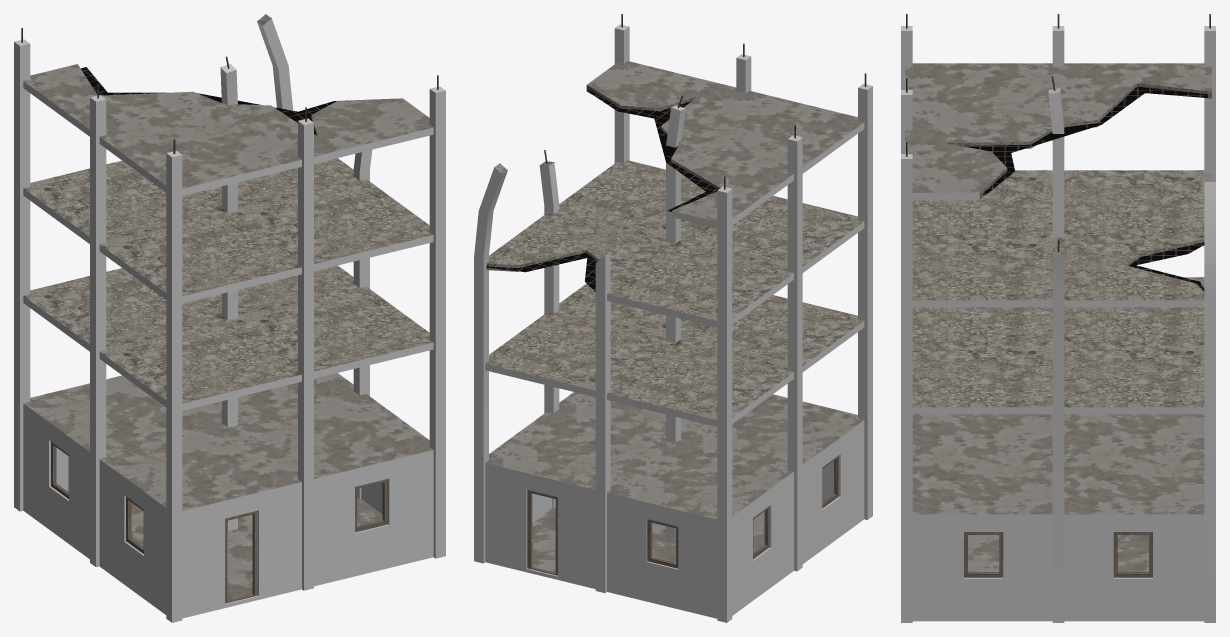
The model's file is Construction_A_Destroyed.fbx.
The picture shows the model from 3 angles, left to right: view 1: azimuth 30°, elevation 25°; view 2: azimuth 150°, elevation 25°; view 3: azimuth 270°, elevation 25°; orthographic projection. The views are drawn at different scales.
Parts seen in each view (by area): view 1: Floors_Center, Pillars, Floors_Top, Walls, Floor_Ground, Windows, Rebar_Floors; view 2: Floors_Center, Pillars, Floors_Top, Walls, Floor_Ground, Rebar_Floors, Windows, Broken_Concrete; view 3: Floors_Center, Floors_Top, Walls, Pillars, Rebar_Floors, Floor_Ground, Broken_Concrete, Windows.
Part boxes in pixels (x1=…): Floors_Center: x1=23, y1=158, x2=433, y2=403; Pillars: x1=14, y1=18, x2=445, y2=622; Floors_Top: x1=24, y1=64, x2=433, y2=510; Walls: x1=23, y1=403, x2=433, y2=618; Floor_Ground: x1=131, y1=498, x2=382, y2=600; Windows: x1=51, y1=441, x2=388, y2=603; Rebar_Floors: x1=80, y1=67, x2=336, y2=135; Floors_Center: x1=485, y1=160, x2=863, y2=419; Pillars: x1=474, y1=24, x2=872, y2=622; Floors_Top: x1=486, y1=61, x2=863, y2=519; Walls: x1=485, y1=420, x2=864, y2=618; Floor_Ground: x1=532, y1=508, x2=764, y2=572; Rebar_Floors: x1=486, y1=89, x2=717, y2=291; Windows: x1=527, y1=455, x2=838, y2=575; Broken_Concrete: x1=486, y1=85, x2=720, y2=271; Floors_Center: x1=912, y1=170, x2=1211, y2=407; Floors_Top: x1=905, y1=63, x2=1211, y2=514; Walls: x1=912, y1=514, x2=1204, y2=621; Pillars: x1=901, y1=26, x2=1215, y2=622; Rebar_Floors: x1=961, y1=86, x2=1207, y2=291; Floor_Ground: x1=968, y1=535, x2=1148, y2=572; Broken_Concrete: x1=946, y1=83, x2=1211, y2=265; Windows: x1=964, y1=532, x2=1152, y2=577.
Size of the model in its own units: 815 by 1340 by 800.
